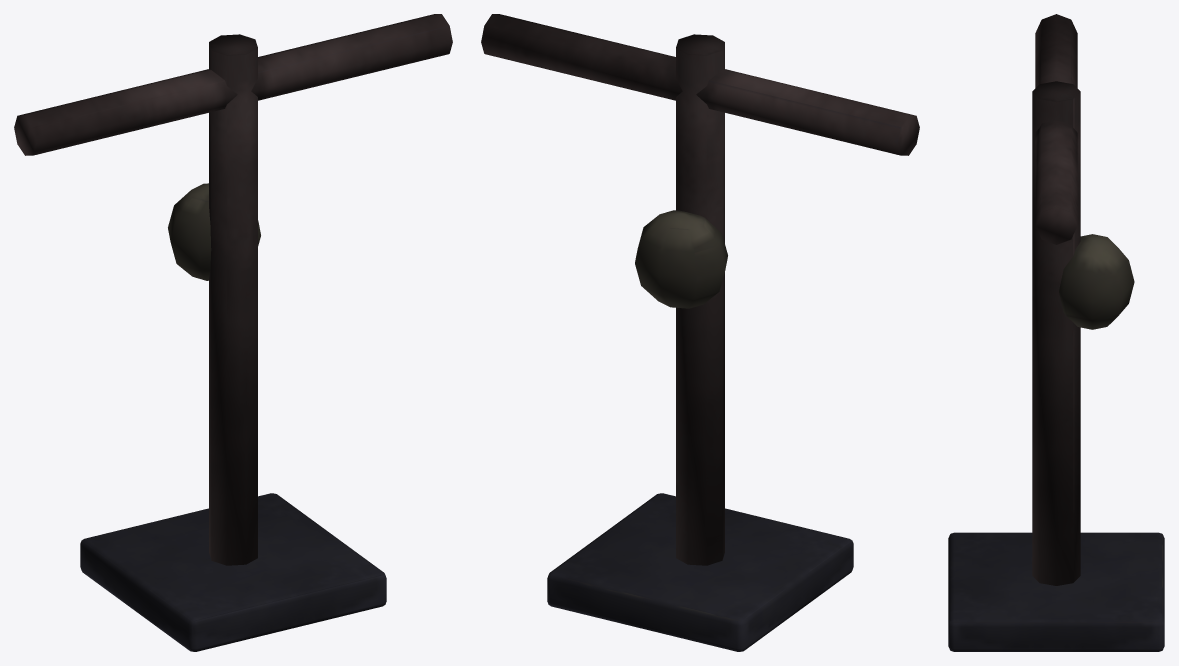
Rendered from crow_perch.obj.
3 views of the same model, side by side, from view 1: azimuth 30°, elevation 25°; view 2: azimuth 150°, elevation 25°; view 3: azimuth 270°, elevation 25° (orthographic). The views are drawn at different scales.
Visible parts, largest first — view 1: part0, part1, part2; view 2: part0, part1, part2; view 3: part0, part1, part2.
Part boxes in pixels (x1,y1,x2,y2): part0: [14, 14, 452, 565]; part1: [80, 493, 386, 651]; part2: [168, 183, 260, 280]; part0: [481, 14, 919, 565]; part1: [547, 493, 853, 651]; part2: [635, 210, 727, 308]; part0: [1032, 14, 1080, 585]; part1: [948, 532, 1164, 651]; part2: [1059, 234, 1134, 329].
Size of the model in its own units: 0.76 by 0.9516 by 0.36.
